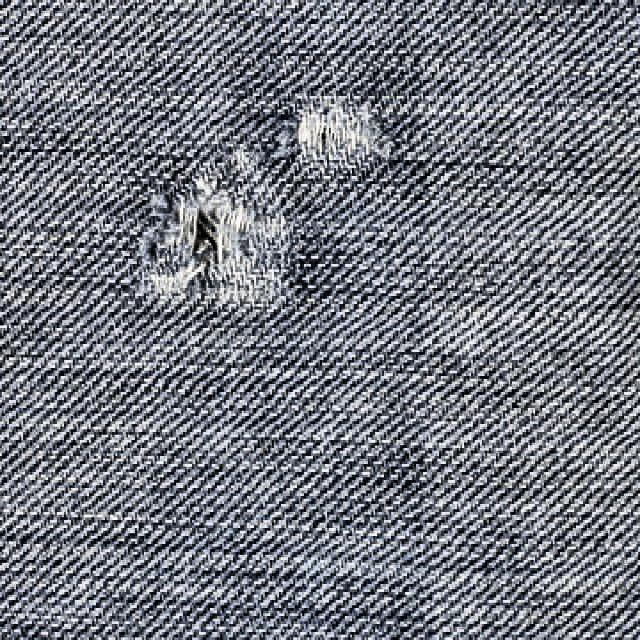hole: (134, 181, 286, 310), (294, 96, 388, 166)
